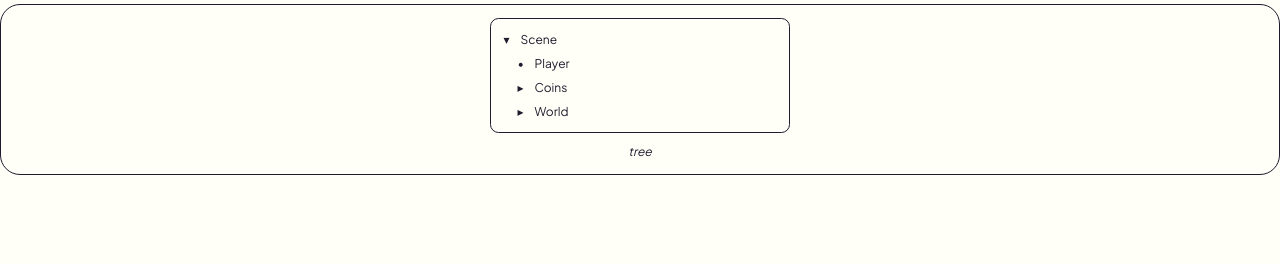
HelpDiagram › scene-tree expands/collapses a node
Expected: the button "coin 1" is not shown
Click the button "▸ Coins" at (551, 87), box [500,76,780,100]
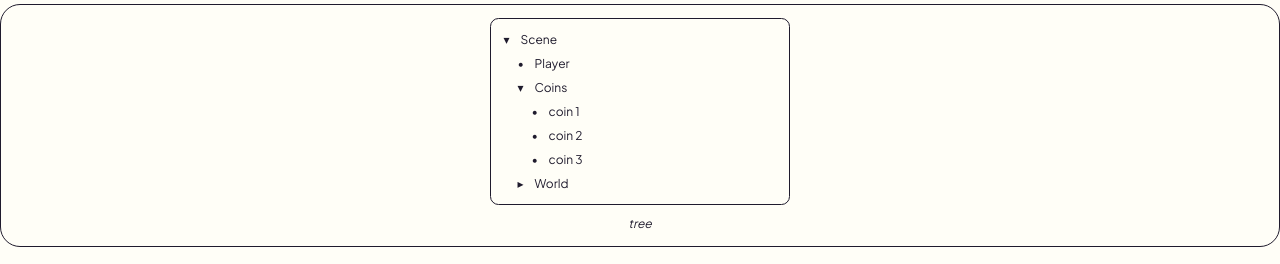
Now the button "• coin 1" is shown, box [500,100,780,124]
